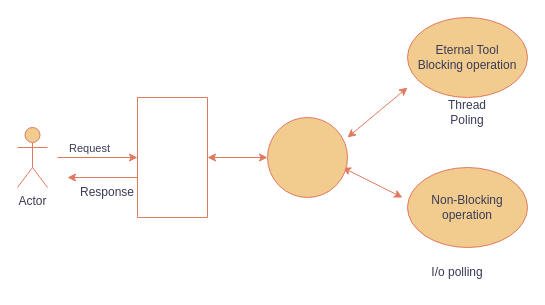
This 545x305 diagram has some shape labels left out. The shapes that lost their labels are listed below. From the top down, each one's centre as x and y in pixels, then its label:
At (x=172, y=157): "Event Queue".
At (x=307, y=157): "Event Loop".
